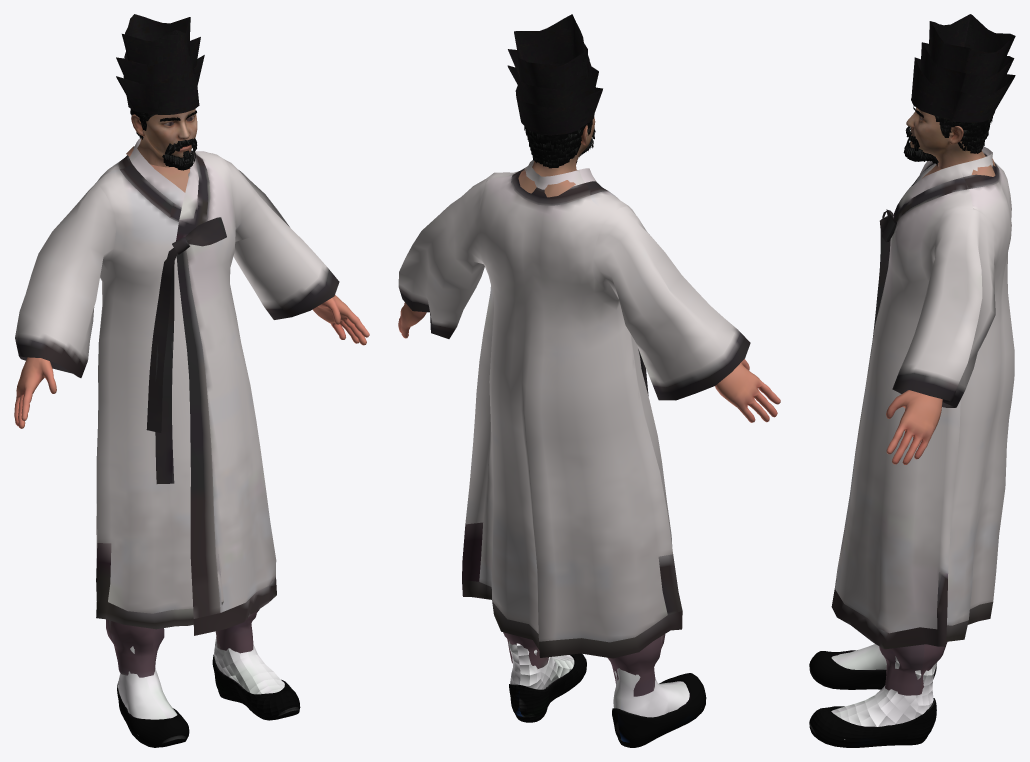
Rendered from schoolmaster.fbx.
The picture shows the model from 3 angles, left to right: view 1: azimuth 30°, elevation 25°; view 2: azimuth 150°, elevation 25°; view 3: azimuth 270°, elevation 25°; orthographic projection. The views are drawn at different scales.
Visible parts, largest first — view 1: NPC_Schoolmaster_Mesh_0; view 2: NPC_Schoolmaster_Mesh_0; view 3: NPC_Schoolmaster_Mesh_0.
Part boxes in pixels (box(x1,y1,x2,y2)): NPC_Schoolmaster_Mesh_0: box(14, 14, 369, 747); NPC_Schoolmaster_Mesh_0: box(398, 14, 780, 747); NPC_Schoolmaster_Mesh_0: box(809, 14, 1015, 747).
Bounding box in the file's own units: 99.92 × 185 × 49.68.
3 materials, 3 textured.
